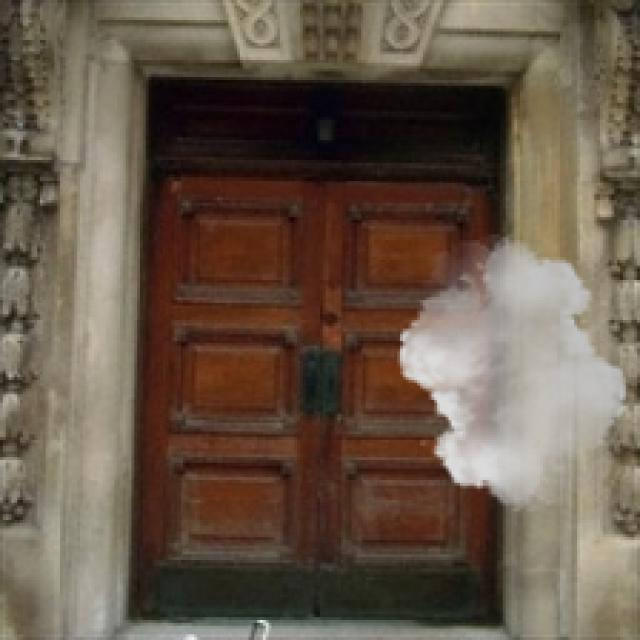Smoke: (388, 234, 638, 512)
